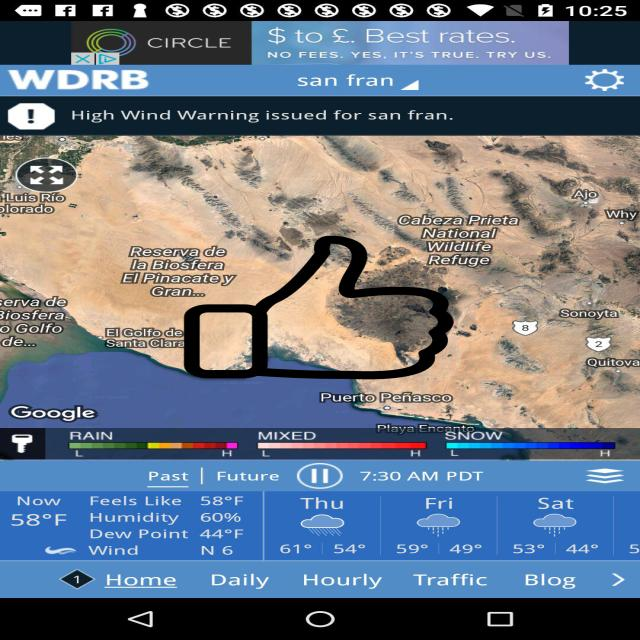privacy zuckering: (180, 236, 458, 379)
